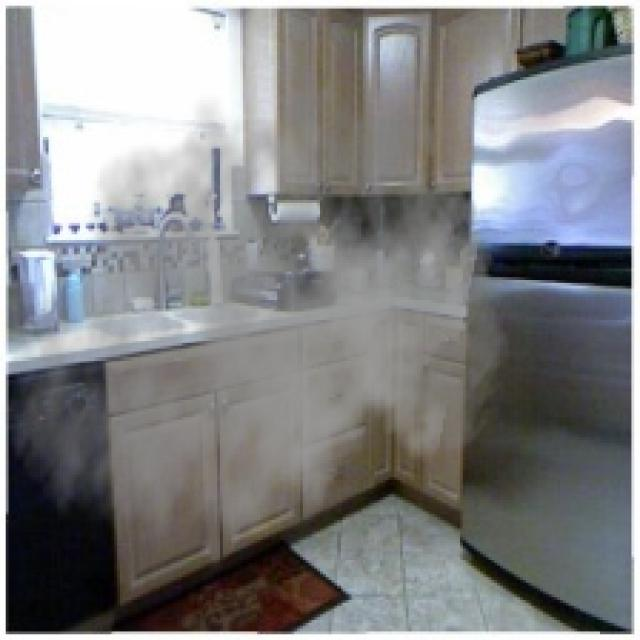smoke: (3, 57, 517, 592)
